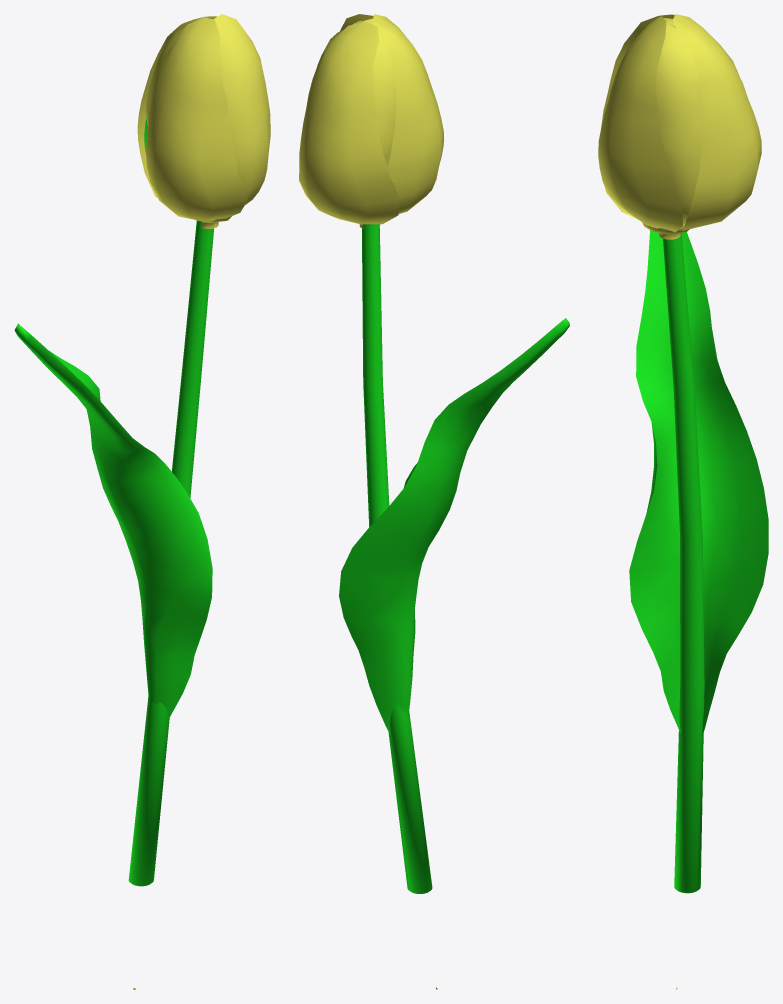
Rendered from tulip.glb.
The picture shows the model from 3 angles, left to right: view 1: azimuth 30°, elevation 25°; view 2: azimuth 150°, elevation 25°; view 3: azimuth 270°, elevation 25°; orthographic projection. The views are drawn at different scales.
Visible parts, largest first — view 1: Tulip.001; view 2: Tulip.001; view 3: Tulip.001.
Part boxes in pixels (left/top/right/bottom): Tulip.001: left=14, top=14, right=270, bottom=989; Tulip.001: left=299, top=14, right=569, bottom=989; Tulip.001: left=598, top=14, right=768, bottom=989.
Size of the model in its own units: 0.5424 by 1.97 by 0.3017.
